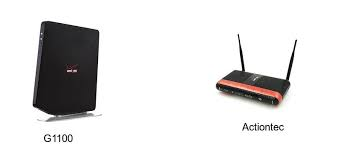Verizon Router: (214, 27, 309, 109)
